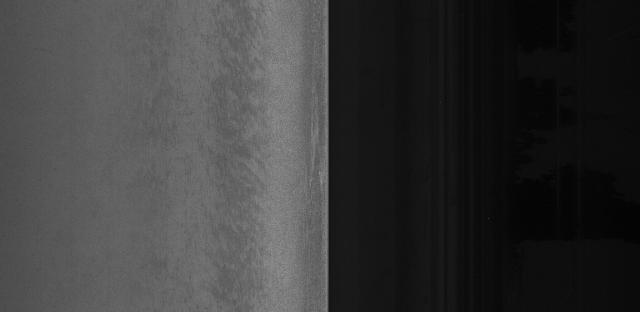silk_spot: (215, 105, 270, 177)
